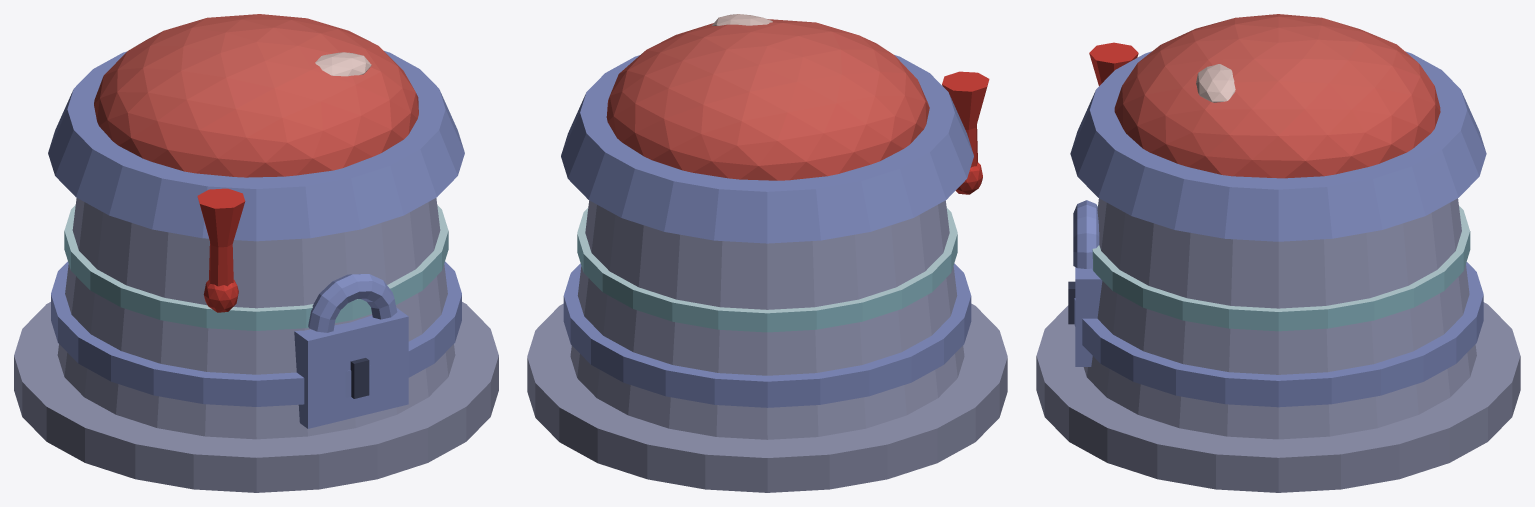
The model's file is goo_lock_button@crystal.fbx.
3 views of the same model, side by side, from view 1: azimuth 30°, elevation 25°; view 2: azimuth 150°, elevation 25°; view 3: azimuth 270°, elevation 25° (orthographic).
Parts seen in each view (by area): view 1: goo_lock_button; view 2: goo_lock_button; view 3: goo_lock_button.
Boxes of the visible parts, box(x1,y1,x2,y2) form: goo_lock_button: box(14, 14, 498, 492); goo_lock_button: box(527, 14, 1007, 492); goo_lock_button: box(1036, 14, 1520, 492).
Size of the model in its own units: 5 by 3.97 by 5.
